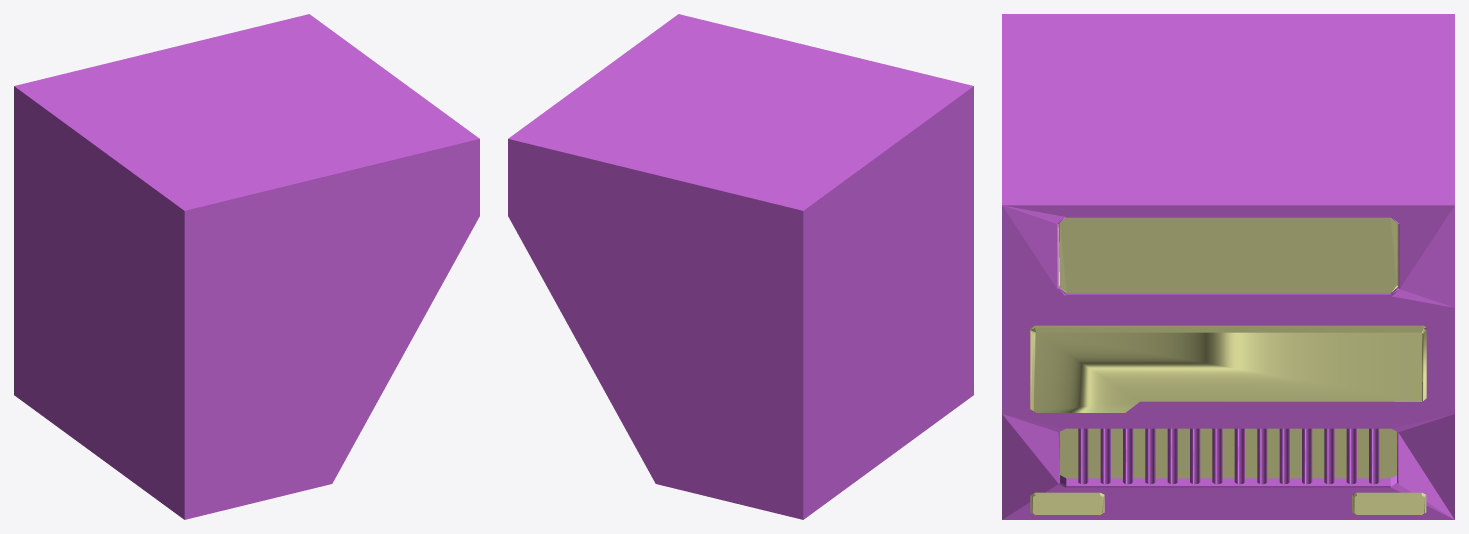
Rendered from uee_stanton_kit_ext_wall_8x8x8_06_reg.glb.
The picture shows the model from 3 angles, left to right: view 1: azimuth 30°, elevation 25°; view 2: azimuth 150°, elevation 25°; view 3: azimuth 270°, elevation 25°; orthographic projection. The views are drawn at different scales.
Size of the model in its own units: 8 by 8 by 8.
